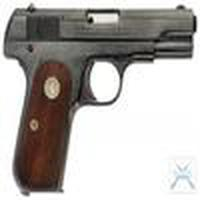gun: (2, 6, 199, 192)
